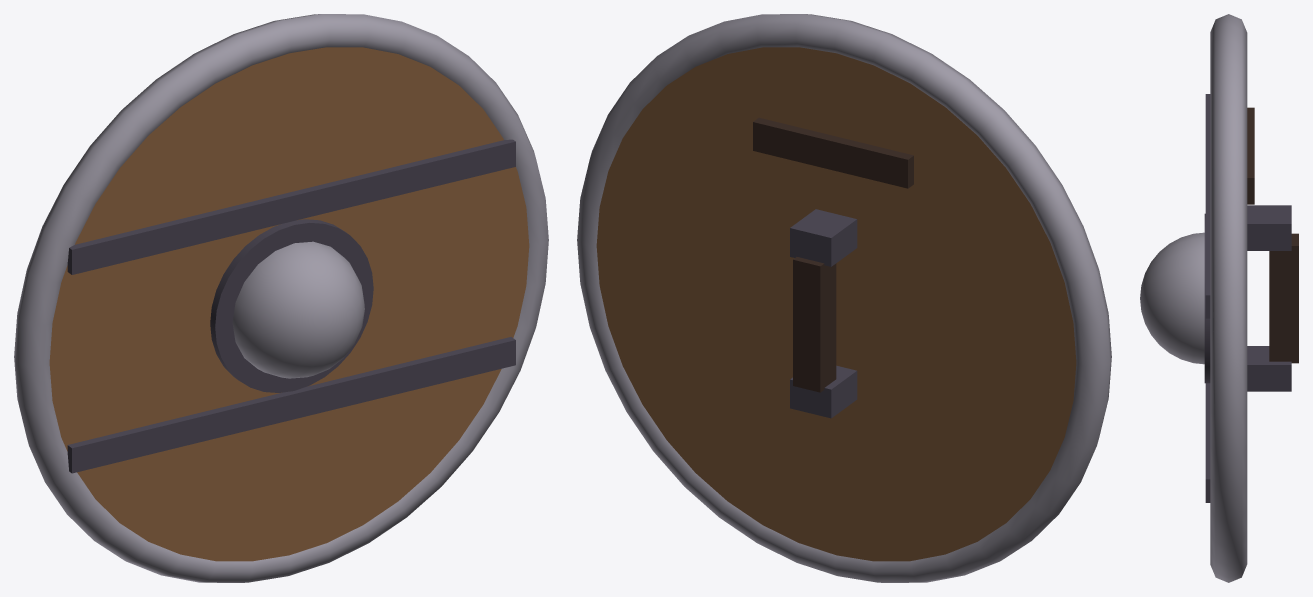
Rendered from WardenShield.glb.
3 views of the same model, side by side, from view 1: azimuth 30°, elevation 25°; view 2: azimuth 150°, elevation 25°; view 3: azimuth 270°, elevation 25° (orthographic). The views are drawn at different scales.
Visible parts, largest first — view 1: board, rim, boss, bandTop, bandBot, bossPlate; view 2: board, rim, armStrap, grip, gripMountTop, gripMountBot; view 3: rim, boss, grip, gripMountTop, gripMountBot, bandTop, armStrap, bandBot, bossPlate.
Boxes of the visible parts, <box> form: board: <box>49,47,529,561</box>; rim: <box>14,14,548,582</box>; boss: <box>232,241,364,378</box>; bandTop: <box>67,139,515,274</box>; bandBot: <box>67,337,515,473</box>; bossPlate: <box>210,219,373,392</box>; board: <box>596,47,1076,561</box>; rim: <box>577,14,1111,582</box>; armStrap: <box>753,117,913,188</box>; grip: <box>793,257,836,392</box>; gripMountTop: <box>790,209,857,266</box>; gripMountBot: <box>790,365,857,418</box>; rim: <box>1210,14,1247,582</box>; boss: <box>1140,232,1204,364</box>; grip: <box>1269,233,1298,363</box>; gripMountTop: <box>1247,205,1291,250</box>; gripMountBot: <box>1247,346,1291,391</box>; bandTop: <box>1205,94,1210,318</box>; armStrap: <box>1247,107,1254,204</box>; bandBot: <box>1205,383,1210,502</box>; bossPlate: <box>1204,213,1210,383</box>.
Bounding box in the file's own units: 3.08 × 3.08 × 0.86.
